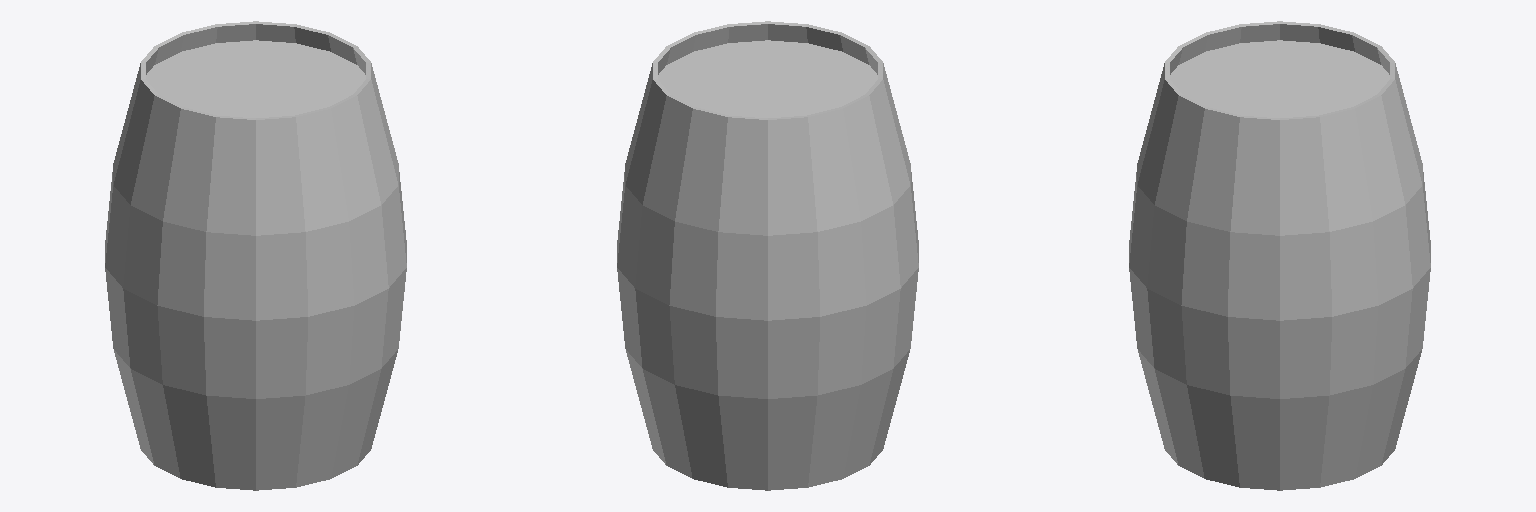
File: barrel_1_001.obj
3 views of the same model, side by side, from view 1: azimuth 30°, elevation 25°; view 2: azimuth 150°, elevation 25°; view 3: azimuth 270°, elevation 25° (orthographic).
Parts seen in each view (by area): view 1: barrel_001; view 2: barrel_001; view 3: barrel_001.
Boxes of the visible parts, <box> form: barrel_001: <box>105,21,406,490</box>; barrel_001: <box>617,21,918,490</box>; barrel_001: <box>1129,21,1430,490</box>.
Size of the model in its own units: 0.9989 by 1.33 by 0.9837.